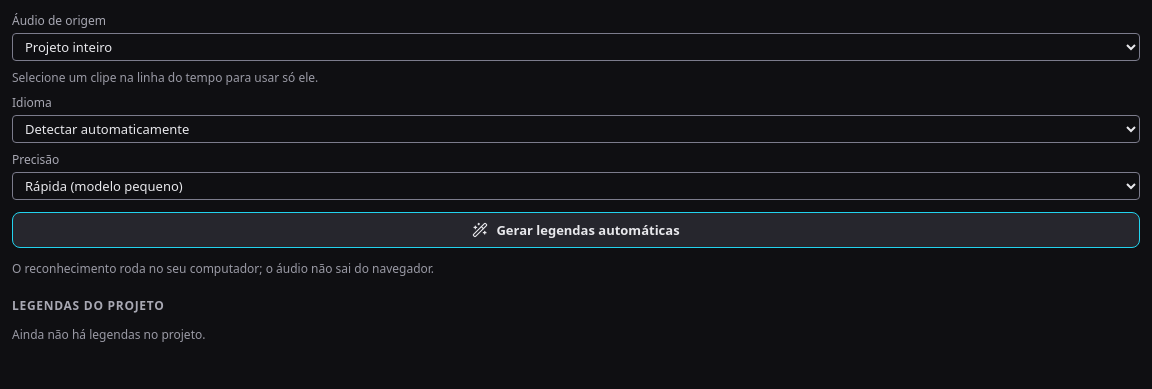
Test: CaptionsTab › gera as legendas do projeto inteiro sem deslocamento
Click the button "Gerar legendas automáticas" at (576, 230), box [12,212,1140,248]
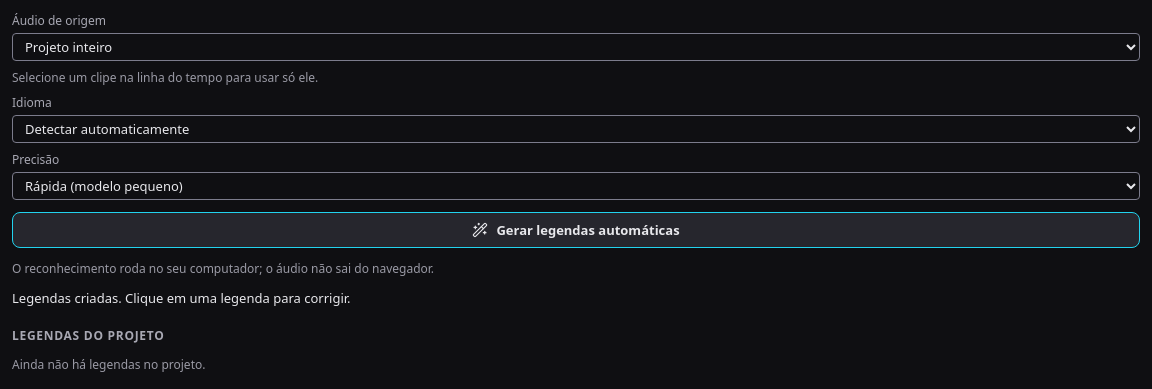
expect the text "Legendas criadas. Clique em uma legenda para corrigir." is shown: met, box [12,289,350,307]
